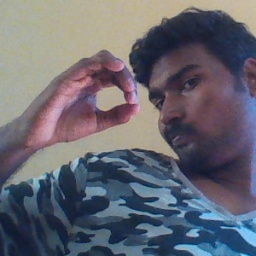O: (23, 46, 141, 146)
